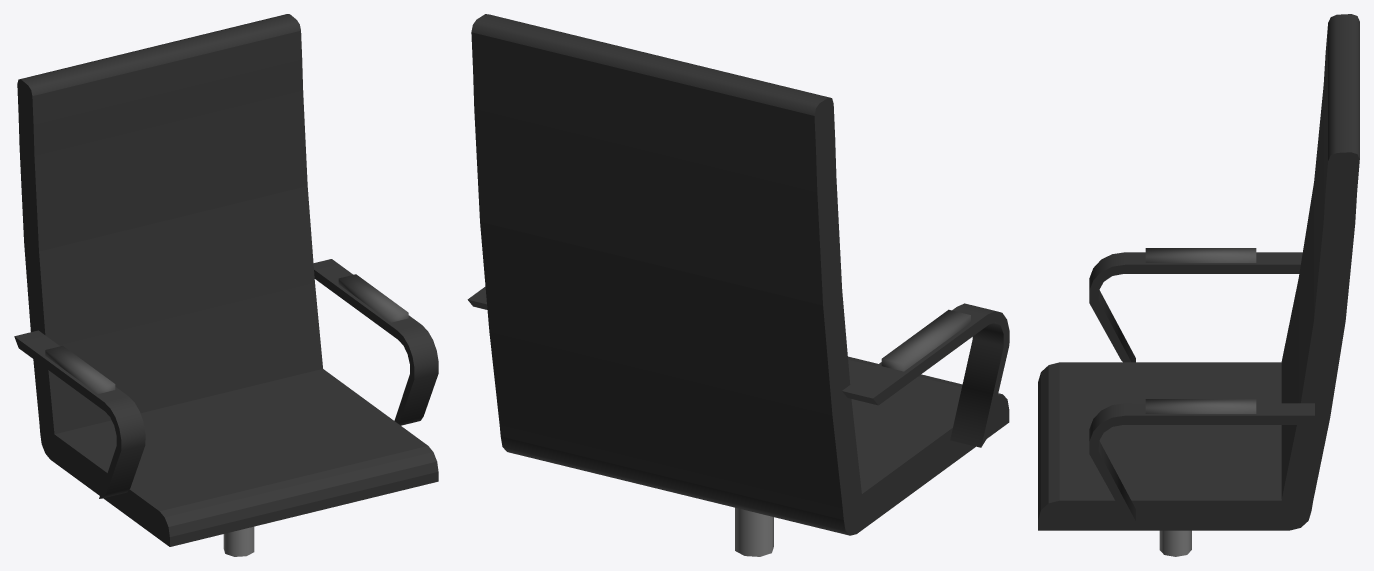
File: Chair_Office_Base_C.fbx
3 renders of one model, left to right at view 1: azimuth 30°, elevation 25°; view 2: azimuth 150°, elevation 25°; view 3: azimuth 270°, elevation 25°, orthographic. The views are drawn at different scales.
Parts seen in each view (by area): view 1: Chair_Office_Base_C; view 2: Chair_Office_Base_C; view 3: Chair_Office_Base_C.
Boxes of the visible parts, <box> form: Chair_Office_Base_C: <box>14,14,438,556</box>; Chair_Office_Base_C: <box>467,14,1009,556</box>; Chair_Office_Base_C: <box>1038,14,1359,556</box>.
Bounding box in the file's own units: 71.64 × 95.42 × 59.61.
